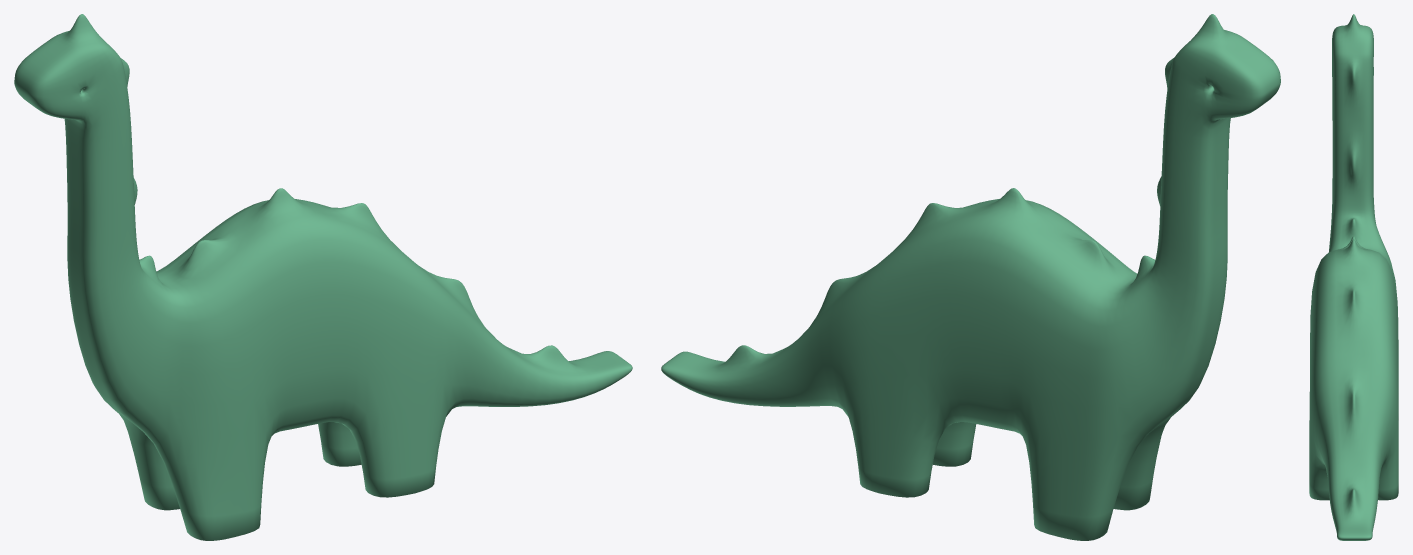
The model's file is Brachiosaurus.fbx.
3 views of the same model, side by side, from view 1: azimuth 30°, elevation 25°; view 2: azimuth 150°, elevation 25°; view 3: azimuth 270°, elevation 25° (orthographic). The views are drawn at different scales.
Parts seen in each view (by area): view 1: Dino2.001; view 2: Dino2.001; view 3: Dino2.001.
Boxes of the visible parts, <box> form: Dino2.001: <box>14,14,632,540</box>; Dino2.001: <box>661,14,1280,540</box>; Dino2.001: <box>1309,14,1398,540</box>.
Bounding box in the file's own units: 363 × 306 × 65.95.
